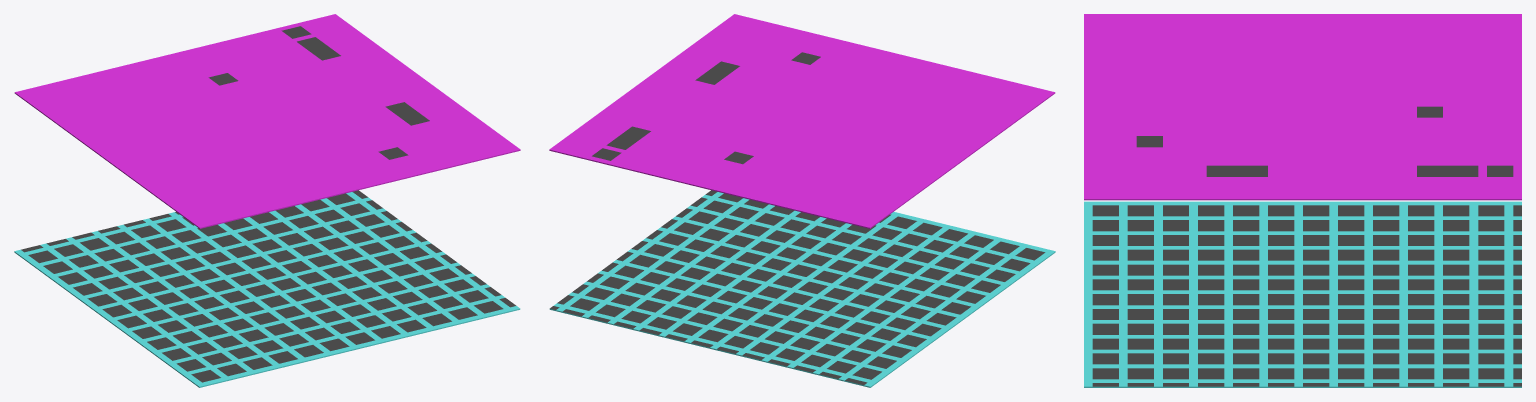
Rendered from Tenjyou_3.fbx.
The picture shows the model from 3 angles, left to right: view 1: azimuth 30°, elevation 25°; view 2: azimuth 150°, elevation 25°; view 3: azimuth 270°, elevation 25°; orthographic projection. The views are drawn at different scales.
Parts seen in each view (by area): view 1: pCube2, pCube3; view 2: pCube2, pCube3; view 3: pCube2, pCube3.
Part boxes in pixels (x1,y1,x2,y2): pCube2: (14, 14, 520, 228); pCube3: (14, 190, 520, 387); pCube2: (549, 14, 1055, 228); pCube3: (549, 190, 1055, 387); pCube2: (1084, 14, 1521, 200); pCube3: (1084, 201, 1521, 387).
Bounding box in the file's own units: 300 × 143 × 300.
